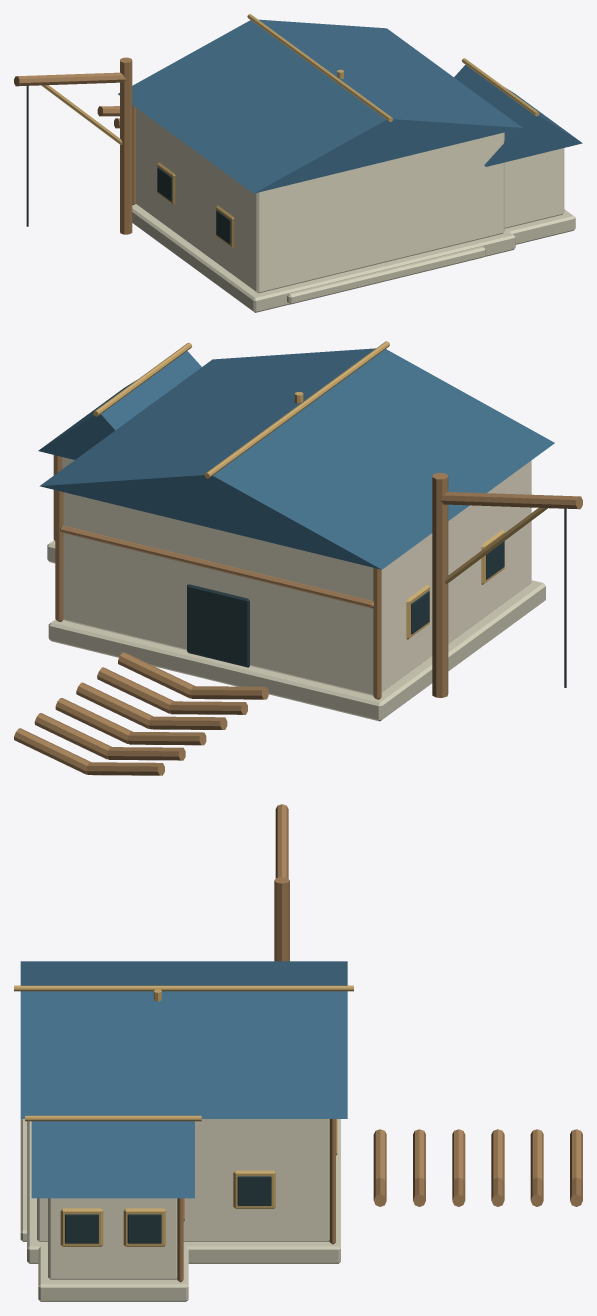
The model's file is level_13.glb.
3 views of the same model, one above another, from view 1: azimuth 30°, elevation 25°; view 2: azimuth 150°, elevation 25°; view 3: azimuth 270°, elevation 25° (orthographic). The views are drawn at different scales.
Parts seen in each view (by area): view 1: shipyard — level 13; view 2: shipyard — level 13; view 3: shipyard — level 13.
Boxes of the visible parts, x1,y1,x2,y2 form: shipyard — level 13: (14,14,582,312); shipyard — level 13: (14,341,582,775); shipyard — level 13: (14,804,582,1301).
Bounding box in the file's own units: 9.81 × 3.91 × 8.7.
